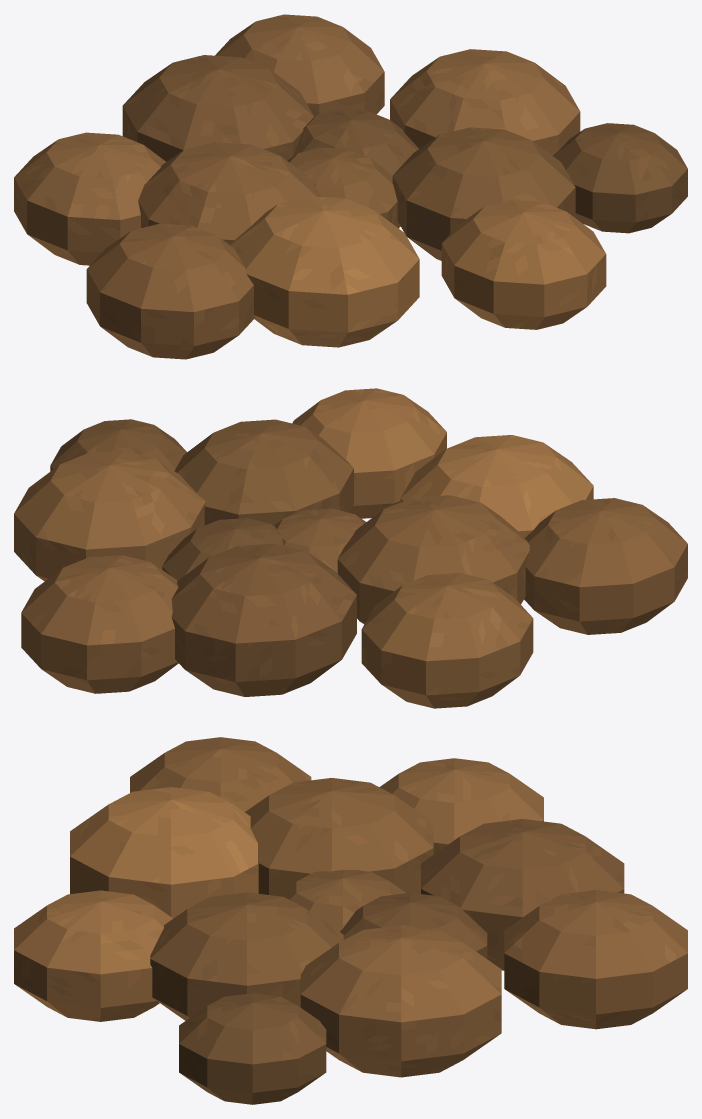
Rendered from threshed_canola.glb.
3 renders of one model, top to bottom at view 1: azimuth 30°, elevation 25°; view 2: azimuth 150°, elevation 25°; view 3: azimuth 270°, elevation 25°, orthographic. The views are drawn at different scales.
Visible parts, largest first — view 1: block_grain 5, block_grain 10, block_grain 8, block_grain 4, block_grain 3, block_grain 7, block_grain 6, block_grain 2, block_grain 11, block_grain 9, block_grain 0, block_grain 1; view 2: block_grain 4, block_grain 7, block_grain 10, block_grain 9, block_grain 6, block_grain 2, block_grain 3, block_grain 8, block_grain 5, block_grain 11, block_grain 1, block_grain 0; view 3: block_grain 6, block_grain 9, block_grain 5, block_grain 3, block_grain 8, block_grain 2, block_grain 4, block_grain 11, block_grain 7, block_grain 10, block_grain 1, block_grain 0.
Boxes of the visible parts, <box> form: block_grain 5: <box>230,196,419,347</box>; block_grain 10: <box>86,223,255,359</box>; block_grain 8: <box>441,200,606,329</box>; block_grain 4: <box>122,55,314,161</box>; block_grain 3: <box>392,127,575,260</box>; block_grain 7: <box>14,132,165,265</box>; block_grain 6: <box>390,49,580,155</box>; block_grain 2: <box>138,142,321,244</box>; block_grain 11: <box>553,123,687,233</box>; block_grain 9: <box>215,14,384,116</box>; block_grain 0: <box>287,147,400,228</box>; block_grain 1: <box>292,109,418,176</box>; block_grain 4: <box>171,543,356,696</box>; block_grain 7: <box>361,573,533,708</box>; block_grain 10: <box>524,498,687,634</box>; block_grain 9: <box>21,555,178,693</box>; block_grain 6: <box>14,451,205,581</box>; block_grain 2: <box>337,495,529,624</box>; block_grain 3: <box>174,419,353,525</box>; block_grain 8: <box>292,388,446,518</box>; block_grain 5: <box>400,435,593,537</box>; block_grain 11: <box>50,419,186,471</box>; block_grain 1: <box>162,518,282,580</box>; block_grain 0: <box>274,508,366,573</box>; block_grain 6: <box>300,925,501,1077</box>; block_grain 9: <box>504,890,687,1029</box>; block_grain 5: <box>70,787,258,918</box>; block_grain 3: <box>150,892,343,1020</box>; block_grain 8: <box>14,890,172,1021</box>; block_grain 2: <box>245,778,433,895</box>; block_grain 4: <box>421,819,624,970</box>; block_grain 11: <box>179,993,326,1104</box>; block_grain 7: <box>379,758,543,854</box>; block_grain 10: <box>130,737,311,811</box>; block_grain 1: <box>340,892,487,958</box>; block_grain 0: <box>276,870,406,931</box>.
Size of the model in its own units: 0.1143 by 0.0228 by 0.109.
1 material, 1 textured.
